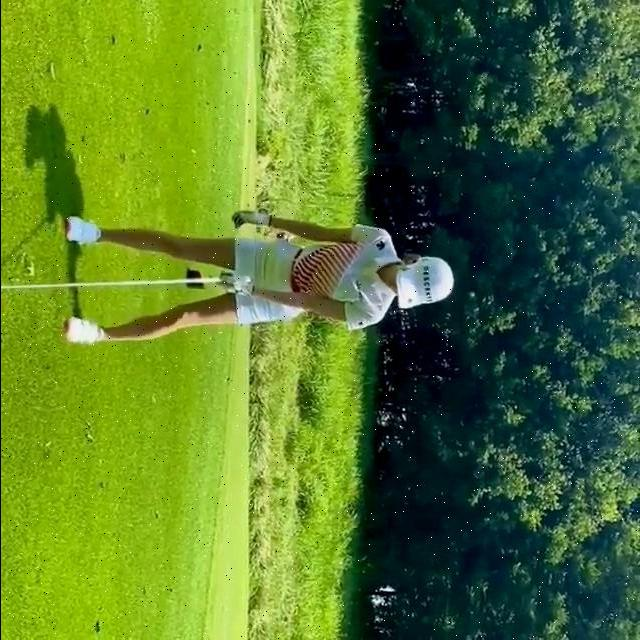golf club-handle: (0, 274, 254, 294)
